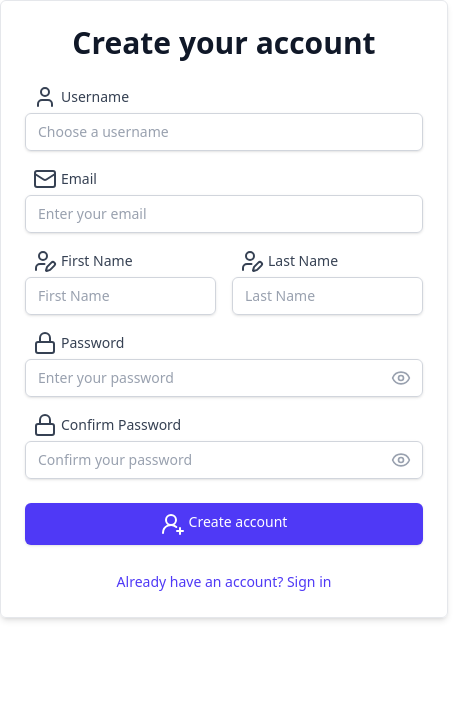
Test case: RegisterForm › API Integration › handles registration API errors
Type "testuser" into the field labelled "Username" at (224, 132), box [25, 113, 423, 151]
Type "test@example.com" into the field labelled "Email" at (224, 214), box [25, 195, 423, 233]
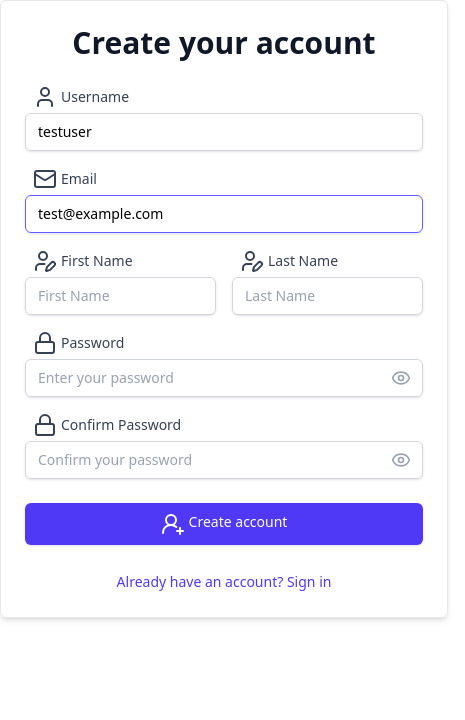
Type "John" into the field labelled "First Name" at (120, 296), box [25, 277, 216, 315]
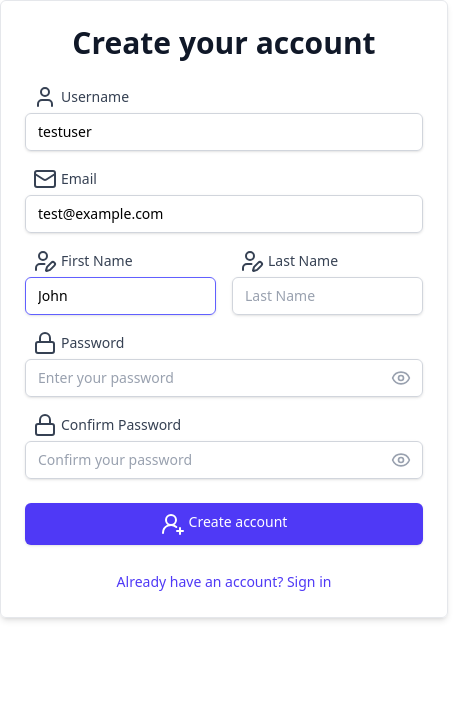
Type "Doe" into the field labelled "Last Name" at (328, 296), box [232, 277, 423, 315]
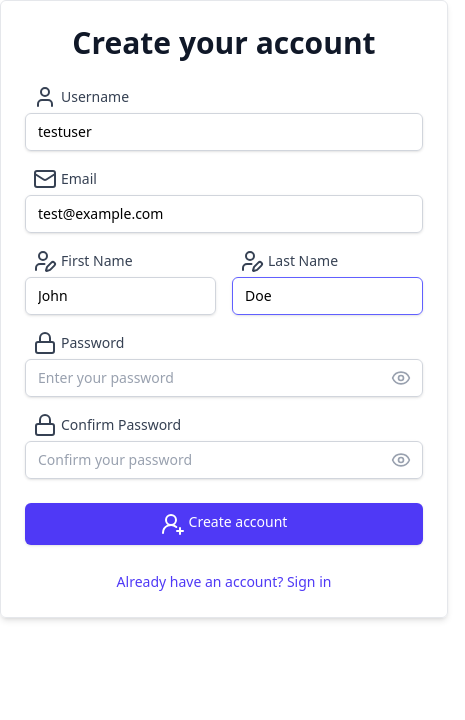
Type "password123" into the password field labelled "Password" at (224, 378), box [25, 359, 423, 397]
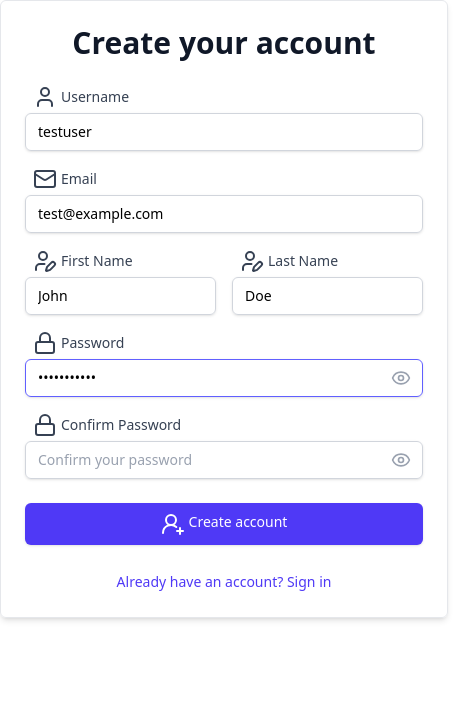
Type "password123" into the password field labelled "Confirm Password" at (224, 460), box [25, 441, 423, 479]
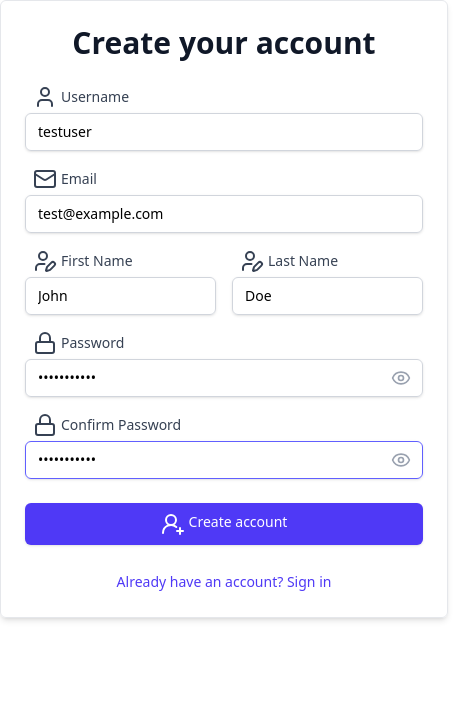
Click the button "Create account" at (224, 524), box [25, 503, 423, 545]
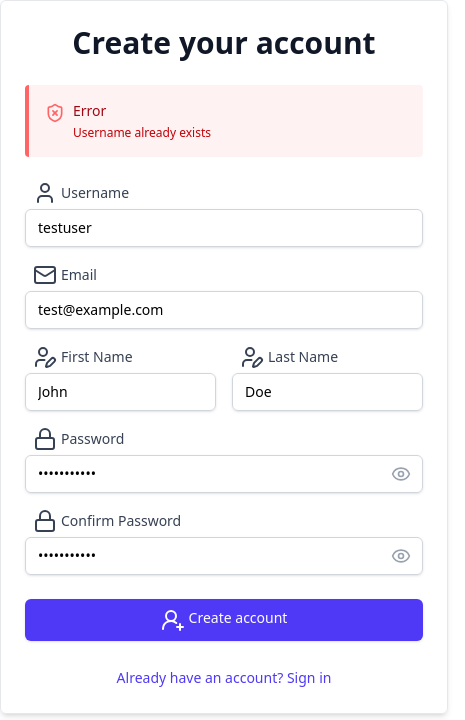
Now the text "Username already exists" is shown, box [73, 125, 211, 141]
